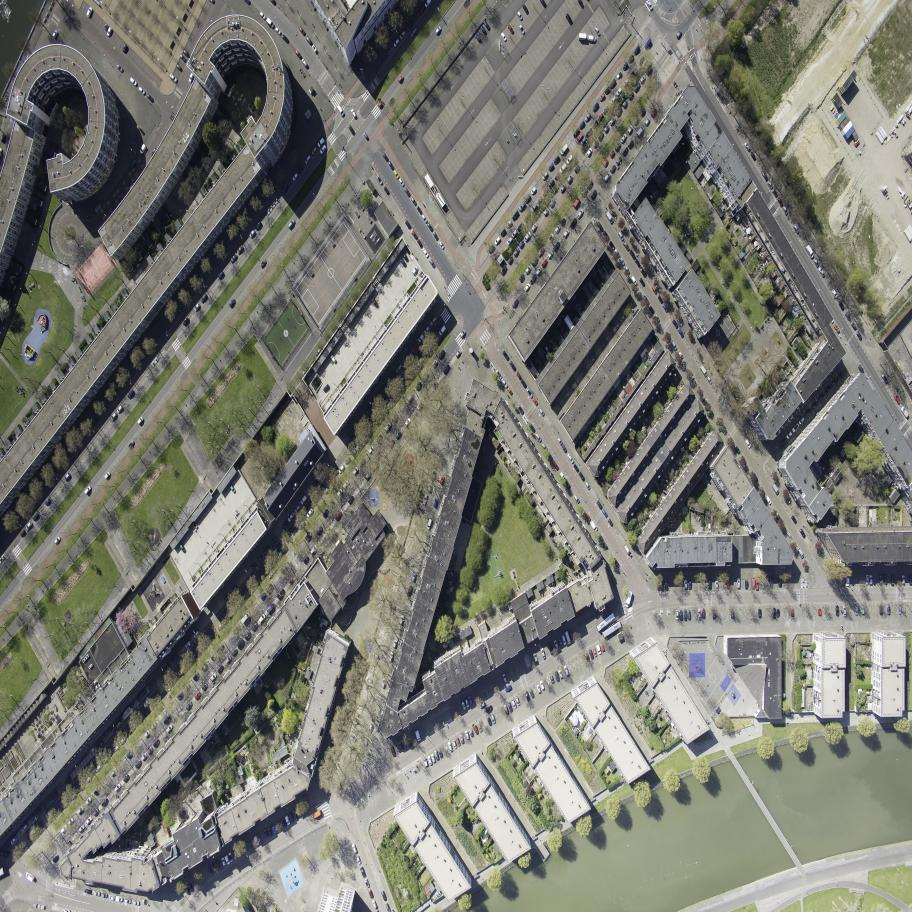large-vehicle: (594, 612, 617, 632), (600, 620, 623, 638), (310, 809, 323, 820), (574, 131, 585, 143), (572, 197, 581, 209)
small-vehicle: (805, 244, 816, 259), (256, 613, 268, 626), (698, 364, 709, 378), (625, 590, 633, 608), (23, 872, 36, 883), (240, 611, 251, 624), (559, 143, 570, 156), (604, 211, 615, 224), (588, 519, 599, 532), (899, 405, 910, 418), (336, 104, 346, 117), (770, 483, 780, 496), (265, 17, 276, 28), (168, 73, 179, 84), (276, 588, 286, 600), (528, 273, 538, 285), (643, 38, 653, 50), (638, 266, 648, 278), (837, 299, 846, 312), (563, 478, 572, 491), (565, 153, 574, 166), (564, 630, 572, 644), (24, 520, 34, 531), (262, 545, 272, 556), (84, 815, 94, 826), (318, 144, 328, 155), (316, 137, 326, 148), (236, 639, 246, 650), (517, 201, 527, 212), (415, 401, 425, 412), (383, 421, 393, 432), (387, 439, 397, 450), (558, 163, 568, 174), (523, 231, 533, 242), (516, 222, 526, 233), (632, 82, 642, 93), (584, 127, 594, 138), (571, 127, 581, 138), (614, 107, 624, 118), (113, 782, 123, 793), (152, 738, 162, 749), (85, 6, 94, 18), (347, 124, 356, 136), (525, 387, 534, 399), (500, 377, 509, 389), (569, 217, 578, 229), (612, 557, 621, 569), (551, 460, 560, 472), (546, 450, 555, 462), (565, 13, 574, 25), (622, 240, 631, 252), (796, 547, 805, 559), (817, 266, 826, 278), (187, 70, 195, 83), (59, 824, 69, 834), (309, 545, 319, 555), (229, 253, 239, 263), (644, 66, 654, 76), (137, 86, 147, 96), (128, 77, 138, 87), (143, 707, 153, 717), (142, 698, 152, 708), (162, 715, 172, 725), (199, 293, 209, 303), (109, 411, 118, 422), (83, 485, 92, 496), (438, 325, 447, 336), (304, 34, 313, 45), (334, 511, 343, 522), (305, 508, 314, 519), (299, 494, 308, 505), (266, 603, 275, 614), (405, 20, 414, 31), (410, 27, 419, 38), (437, 349, 446, 360), (442, 364, 451, 375), (426, 222, 435, 233), (375, 174, 384, 185), (501, 350, 510, 361), (494, 369, 503, 380), (528, 422, 537, 433), (537, 246, 546, 257), (552, 241, 561, 252), (576, 208, 585, 219), (596, 221, 605, 232), (603, 172, 612, 183), (583, 112, 592, 123), (493, 235, 502, 246), (636, 126, 645, 137), (621, 146, 630, 157), (613, 141, 622, 152), (619, 133, 628, 144), (595, 499, 604, 510), (670, 340, 679, 351), (337, 464, 346, 475), (628, 249, 637, 260), (602, 230, 611, 241), (642, 295, 651, 306), (632, 45, 641, 56), (743, 438, 752, 449), (758, 486, 767, 497), (880, 373, 889, 384), (893, 393, 901, 405), (359, 866, 367, 878), (139, 143, 147, 155), (64, 777, 73, 787), (63, 472, 72, 482), (31, 512, 40, 522), (109, 725, 118, 735), (50, 791, 59, 801), (269, 536, 278, 546), (44, 810, 54, 819), (76, 805, 85, 815), (96, 741, 105, 751), (294, 49, 303, 59), (300, 58, 309, 68), (281, 520, 290, 530), (304, 531, 313, 541), (77, 824, 86, 834), (429, 316, 438, 326), (329, 354, 338, 364), (254, 221, 263, 231), (810, 401, 819, 411), (287, 219, 296, 229), (281, 185, 290, 195), (398, 30, 407, 40), (387, 97, 396, 107), (430, 359, 439, 369), (403, 417, 412, 427), (259, 258, 268, 268), (310, 146, 319, 156), (310, 44, 319, 54), (428, 259, 437, 269), (421, 248, 430, 258), (534, 433, 543, 443), (540, 442, 549, 452), (508, 361, 517, 371), (503, 684, 513, 693), (552, 155, 561, 165), (541, 188, 550, 198), (2, 850, 11, 860), (531, 256, 540, 266), (511, 211, 520, 221), (597, 132, 606, 142), (510, 229, 519, 239), (609, 95, 618, 105), (591, 102, 600, 112), (608, 116, 617, 126), (705, 375, 714, 385), (511, 299, 520, 309), (512, 247, 521, 257), (591, 120, 600, 130), (778, 438, 787, 448), (115, 404, 124, 414), (126, 390, 135, 400), (181, 317, 190, 327), (127, 440, 136, 450), (136, 416, 145, 426), (175, 691, 185, 700), (785, 430, 794, 440), (608, 79, 617, 89), (523, 213, 532, 223), (192, 629, 201, 639), (177, 666, 186, 676), (165, 724, 174, 734), (129, 159, 138, 169), (125, 749, 135, 758), (105, 26, 113, 37), (350, 108, 358, 119), (518, 24, 526, 35), (404, 219, 412, 230), (483, 19, 491, 30), (520, 378, 528, 389), (517, 404, 525, 415), (646, 0, 654, 11), (638, 56, 646, 67), (596, 531, 604, 542), (567, 453, 575, 464), (792, 223, 800, 234), (617, 231, 625, 242), (630, 275, 638, 286), (743, 141, 751, 152), (578, 471, 586, 482), (799, 528, 807, 539), (855, 330, 863, 341), (776, 196, 784, 207), (426, 518, 433, 530), (399, 614, 406, 626), (381, 890, 388, 902), (553, 639, 560, 651), (473, 724, 480, 736), (524, 690, 531, 702), (207, 865, 214, 877), (109, 768, 118, 777), (53, 536, 62, 545), (103, 471, 112, 480), (84, 797, 93, 806), (51, 854, 60, 863), (9, 836, 18, 845), (281, 34, 290, 43), (101, 798, 110, 807), (315, 526, 324, 535), (302, 556, 311, 565), (279, 565, 288, 574), (230, 585, 239, 594), (382, 382, 391, 391), (364, 406, 373, 415), (394, 431, 403, 440), (341, 480, 350, 489), (529, 186, 538, 195), (562, 229, 571, 238), (558, 471, 567, 480), (578, 121, 587, 130), (201, 683, 210, 692), (209, 673, 218, 682), (797, 417, 806, 426), (804, 409, 813, 418), (146, 94, 155, 103), (115, 64, 124, 73), (773, 428, 782, 437), (122, 774, 131, 783), (134, 760, 143, 769), (216, 665, 225, 674), (118, 736, 127, 745), (322, 383, 330, 393), (287, 512, 295, 522), (297, 520, 305, 530), (92, 807, 100, 817), (244, 631, 252, 641), (236, 245, 244, 255), (251, 622, 259, 632), (248, 229, 256, 239), (304, 155, 312, 165), (411, 341, 419, 351), (417, 333, 425, 343), (434, 25, 442, 35), (416, 357, 424, 367), (415, 381, 423, 391), (395, 364, 403, 374), (389, 372, 397, 382), (407, 392, 415, 402), (228, 298, 236, 308), (367, 445, 375, 455), (382, 152, 390, 162), (397, 177, 405, 187), (500, 32, 508, 42), (403, 187, 411, 197), (420, 214, 428, 224), (392, 169, 400, 179), (411, 230, 419, 240), (411, 266, 419, 276), (371, 297, 379, 307), (507, 24, 515, 34), (530, 203, 538, 213), (556, 436, 564, 446), (459, 329, 467, 339), (484, 705, 494, 713), (522, 4, 530, 14), (559, 183, 567, 193), (548, 179, 556, 189), (541, 171, 549, 181), (524, 194, 532, 204), (549, 198, 557, 208), (518, 273, 526, 283), (524, 265, 532, 275), (530, 223, 538, 233), (546, 250, 554, 260), (609, 164, 617, 174), (675, 29, 683, 39), (633, 116, 641, 126), (627, 54, 635, 64), (626, 125, 634, 135), (506, 236, 514, 246), (500, 265, 508, 275), (590, 189, 598, 199), (585, 147, 593, 157), (615, 70, 623, 80), (573, 494, 581, 504), (584, 512, 592, 522), (677, 328, 685, 338), (615, 156, 623, 166), (51, 29, 59, 39), (671, 319, 679, 329), (653, 313, 661, 323), (634, 258, 642, 268), (608, 240, 616, 250), (648, 305, 656, 315), (638, 277, 646, 287), (618, 256, 626, 266), (613, 248, 621, 258), (579, 136, 587, 146), (621, 99, 629, 109), (734, 445, 742, 455), (764, 495, 772, 505), (761, 171, 769, 181), (185, 701, 193, 711), (844, 311, 852, 321), (781, 205, 789, 215), (833, 324, 841, 334), (857, 364, 865, 374), (771, 188, 779, 198), (150, 148, 158, 158), (179, 544, 187, 554), (650, 108, 658, 118), (615, 87, 623, 97), (831, 289, 839, 299), (415, 729, 421, 742), (390, 745, 396, 758), (540, 647, 546, 660), (284, 815, 291, 826), (253, 835, 260, 846), (433, 750, 440, 761), (426, 755, 433, 766), (364, 878, 371, 889), (351, 843, 358, 854), (507, 702, 514, 713), (563, 665, 570, 676), (588, 649, 595, 660), (44, 497, 52, 506), (66, 817, 75, 825), (93, 787, 101, 796), (21, 823, 29, 832), (336, 488, 344, 497), (259, 11, 267, 20), (274, 27, 283, 35), (298, 27, 306, 36), (359, 435, 367, 444), (321, 508, 329, 517), (292, 810, 298, 822), (231, 648, 239, 657), (266, 583, 274, 592), (217, 271, 225, 280), (297, 165, 305, 174), (418, 6, 426, 15), (250, 562, 258, 571), (352, 466, 360, 475), (364, 472, 372, 481), (347, 495, 355, 504), (407, 584, 413, 596), (346, 431, 354, 440), (447, 741, 453, 753), (350, 727, 359, 735), (416, 239, 424, 248), (399, 258, 407, 267), (516, 11, 524, 20), (531, 397, 539, 406), (454, 349, 462, 358), (352, 445, 360, 454), (561, 634, 567, 646), (477, 721, 483, 733), (490, 713, 496, 725), (511, 698, 517, 710), (553, 172, 561, 181), (536, 196, 544, 205), (541, 259, 549, 268), (535, 267, 543, 276), (523, 283, 531, 292), (518, 240, 526, 249), (547, 233, 555, 242), (581, 187, 589, 196), (603, 124, 611, 133), (499, 228, 507, 237), (597, 113, 605, 122), (602, 106, 610, 115), (598, 93, 606, 102), (621, 62, 629, 71), (622, 78, 630, 87), (627, 140, 635, 149), (507, 256, 515, 265), (601, 509, 609, 518), (677, 351, 685, 360), (573, 165, 581, 174), (566, 174, 574, 183), (786, 414, 794, 423), (780, 421, 788, 430), (192, 672, 200, 681), (749, 151, 757, 160), (790, 515, 798, 524), (194, 691, 202, 700), (193, 303, 201, 312), (115, 720, 123, 729), (627, 91, 635, 100), (171, 655, 179, 664), (146, 746, 154, 755), (140, 752, 148, 761), (129, 182, 137, 191), (91, 890, 101, 897), (388, 161, 395, 171), (371, 899, 378, 909), (438, 240, 445, 250), (402, 252, 409, 262), (383, 186, 390, 196), (480, 25, 487, 35), (468, 728, 475, 738), (594, 26, 601, 36), (662, 303, 669, 313), (767, 180, 774, 190), (224, 855, 231, 865), (813, 258, 820, 268), (388, 651, 394, 662), (411, 572, 417, 583), (398, 741, 404, 752), (381, 678, 387, 689), (503, 704, 509, 715), (515, 696, 521, 707), (596, 644, 602, 655), (584, 651, 590, 662), (214, 861, 220, 872), (84, 776, 92, 784), (94, 765, 102, 773), (276, 551, 284, 559), (377, 100, 385, 108), (542, 208, 550, 216), (291, 173, 299, 181), (259, 592, 267, 600), (824, 386, 832, 394), (344, 457, 352, 465), (547, 163, 555, 171), (817, 394, 825, 402), (830, 379, 838, 387), (505, 220, 513, 228), (592, 140, 600, 148), (559, 218, 567, 226), (836, 372, 844, 380), (639, 108, 647, 116), (174, 63, 182, 71), (184, 640, 192, 648), (179, 54, 187, 62), (143, 730, 151, 738), (209, 631, 217, 639), (150, 722, 158, 730), (113, 744, 121, 752), (294, 504, 301, 513), (393, 39, 400, 48), (371, 652, 380, 659), (348, 735, 357, 742), (354, 712, 363, 719), (365, 677, 374, 684), (410, 197, 417, 206), (416, 206, 423, 215), (432, 232, 439, 241), (474, 33, 481, 42), (561, 444, 568, 453), (538, 408, 545, 417), (515, 371, 522, 380), (506, 387, 513, 396), (478, 702, 487, 709), (554, 225, 561, 234), (639, 75, 646, 84), (644, 117, 651, 126), (587, 35, 596, 42), (607, 518, 614, 527), (584, 481, 591, 490), (573, 463, 580, 472), (657, 295, 664, 304), (651, 286, 658, 295), (602, 158, 609, 167), (624, 265, 631, 274), (786, 532, 793, 541), (850, 321, 857, 330), (184, 683, 191, 692), (267, 827, 273, 837), (228, 851, 233, 863), (423, 757, 429, 767), (427, 483, 433, 493), (438, 748, 444, 758), (452, 740, 458, 750), (371, 713, 377, 723), (356, 855, 362, 865), (368, 889, 374, 899), (532, 652, 538, 662), (464, 698, 470, 708), (502, 673, 508, 683), (548, 645, 554, 655), (459, 734, 465, 744), (487, 717, 493, 727), (455, 737, 461, 747), (529, 689, 535, 699), (539, 680, 545, 690), (558, 669, 564, 679), (211, 863, 217, 873), (188, 883, 194, 893), (184, 885, 190, 895), (108, 894, 116, 901), (84, 888, 92, 895), (312, 480, 319, 488), (362, 132, 369, 140), (423, 326, 430, 334), (397, 75, 404, 83), (604, 87, 611, 95), (609, 150, 616, 158), (602, 542, 609, 550), (164, 665, 171, 673), (181, 49, 189, 56), (115, 895, 123, 902), (242, 843, 247, 854), (289, 812, 294, 823), (468, 695, 473, 706), (558, 636, 563, 647), (555, 671, 560, 682), (736, 578, 741, 589), (271, 825, 277, 834), (536, 684, 542, 693), (122, 44, 128, 53), (131, 900, 140, 906), (683, 609, 687, 622), (263, 828, 268, 838), (440, 475, 445, 485), (433, 498, 438, 508), (368, 723, 373, 733), (465, 730, 470, 740), (592, 648, 597, 658), (221, 857, 226, 867), (257, 556, 264, 563), (19, 530, 26, 537), (323, 488, 330, 495), (288, 577, 294, 585), (772, 607, 776, 619), (879, 574, 883, 586), (891, 575, 895, 587), (124, 898, 132, 904), (431, 754, 436, 763), (402, 739, 407, 748), (461, 701, 466, 710), (550, 675, 555, 684), (600, 643, 605, 652), (282, 817, 286, 828), (679, 610, 683, 621), (708, 579, 712, 590), (715, 580, 719, 591), (755, 580, 759, 591), (751, 578, 755, 589), (865, 574, 869, 585), (898, 575, 902, 586), (835, 605, 839, 616), (854, 605, 858, 616), (675, 610, 679, 620), (684, 580, 688, 590), (879, 605, 883, 615), (687, 610, 691, 620), (712, 610, 716, 620), (846, 577, 850, 587), (869, 575, 873, 585), (393, 639, 397, 648), (776, 609, 780, 618), (758, 609, 762, 618), (818, 607, 822, 616), (843, 605, 846, 617), (101, 893, 108, 898), (887, 604, 890, 615), (698, 609, 701, 620), (702, 608, 705, 619), (731, 608, 734, 619), (770, 577, 773, 588), (665, 580, 668, 590), (661, 581, 664, 591), (727, 579, 730, 589), (842, 578, 845, 588), (884, 575, 887, 585), (902, 575, 905, 585), (745, 580, 748, 590), (898, 605, 901, 615), (657, 581, 660, 590), (689, 581, 692, 590), (861, 606, 864, 615), (779, 578, 782, 587), (791, 608, 794, 616)
